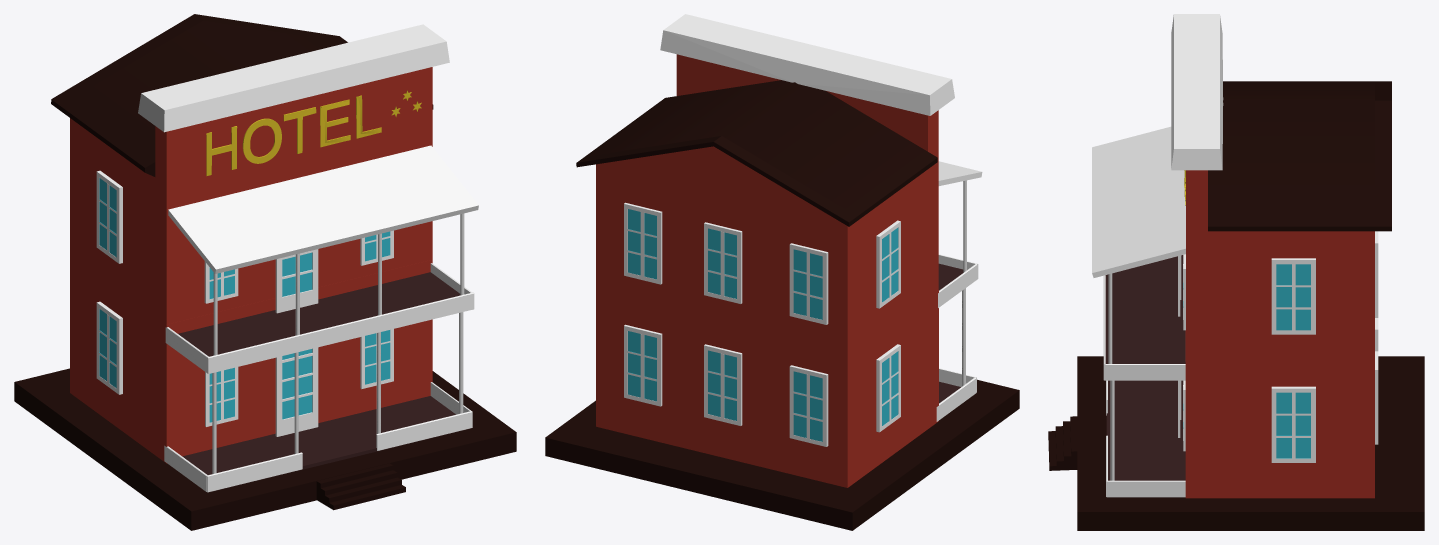
Rendered from Hotel.FBX.
3 views of the same model, side by side, from view 1: azimuth 30°, elevation 25°; view 2: azimuth 150°, elevation 25°; view 3: azimuth 270°, elevation 25° (orthographic). The views are drawn at different scales.
Parts seen in each view (by area): view 1: Box001, Podstawka, Plane001, Plane009, Plane005, Plane002, FixedWindow012, TextPlus001, FixedWindow013, FixedWindow009, FixedWindow010, Plane010 (+7 smaller); view 2: Box001, Podstawka, FixedWindow005, FixedWindow008, FixedWindow003, FixedWindow006, FixedWindow004, FixedWindow007, FixedWindow009, FixedWindow010, Plane008, Plane001 (+1 smaller); view 3: Box001, Podstawka, Plane001, Plane005, Plane009, FixedWindow002, FixedWindow001, Plane007, Plane003, Cylinder005, Cylinder001.
Part boxes in pixels (bbox=[...]): Box001: bbox=[51, 14, 449, 463]; Podstawka: bbox=[14, 368, 516, 530]; Plane001: bbox=[168, 145, 478, 273]; Plane009: bbox=[182, 396, 470, 492]; Plane005: bbox=[178, 272, 460, 356]; Plane002: bbox=[207, 292, 474, 373]; FixedWindow012: bbox=[275, 347, 318, 436]; TextPlus001: bbox=[206, 95, 381, 175]; FixedWindow013: bbox=[275, 249, 318, 313]; FixedWindow009: bbox=[96, 301, 122, 394]; FixedWindow010: bbox=[96, 170, 122, 263]; Plane010: bbox=[206, 452, 302, 492]; Box001: bbox=[576, 14, 954, 487]; Podstawka: bbox=[545, 379, 1019, 530]; FixedWindow005: bbox=[789, 243, 828, 324]; FixedWindow008: bbox=[789, 365, 828, 446]; FixedWindow003: bbox=[624, 202, 662, 284]; FixedWindow006: bbox=[624, 324, 662, 406]; FixedWindow004: bbox=[704, 222, 742, 303]; FixedWindow007: bbox=[704, 344, 742, 425]; FixedWindow009: bbox=[876, 344, 900, 432]; FixedWindow010: bbox=[876, 220, 900, 308]; Plane008: bbox=[936, 377, 976, 421]; Plane001: bbox=[938, 161, 982, 185]; Box001: bbox=[1171, 14, 1391, 498]; Podstawka: bbox=[1048, 356, 1424, 530]; Plane001: bbox=[1092, 126, 1185, 277]; Plane005: bbox=[1105, 255, 1185, 363]; Plane009: bbox=[1106, 380, 1185, 497]; FixedWindow002: bbox=[1271, 258, 1315, 334]; FixedWindow001: bbox=[1271, 386, 1315, 462]; Plane007: bbox=[1106, 480, 1185, 497]; Plane003: bbox=[1104, 364, 1185, 380]; Cylinder005: bbox=[1110, 380, 1114, 480]; Cylinder001: bbox=[1108, 273, 1112, 363].
Size of the model in its own units: 134 by 150 by 137.
